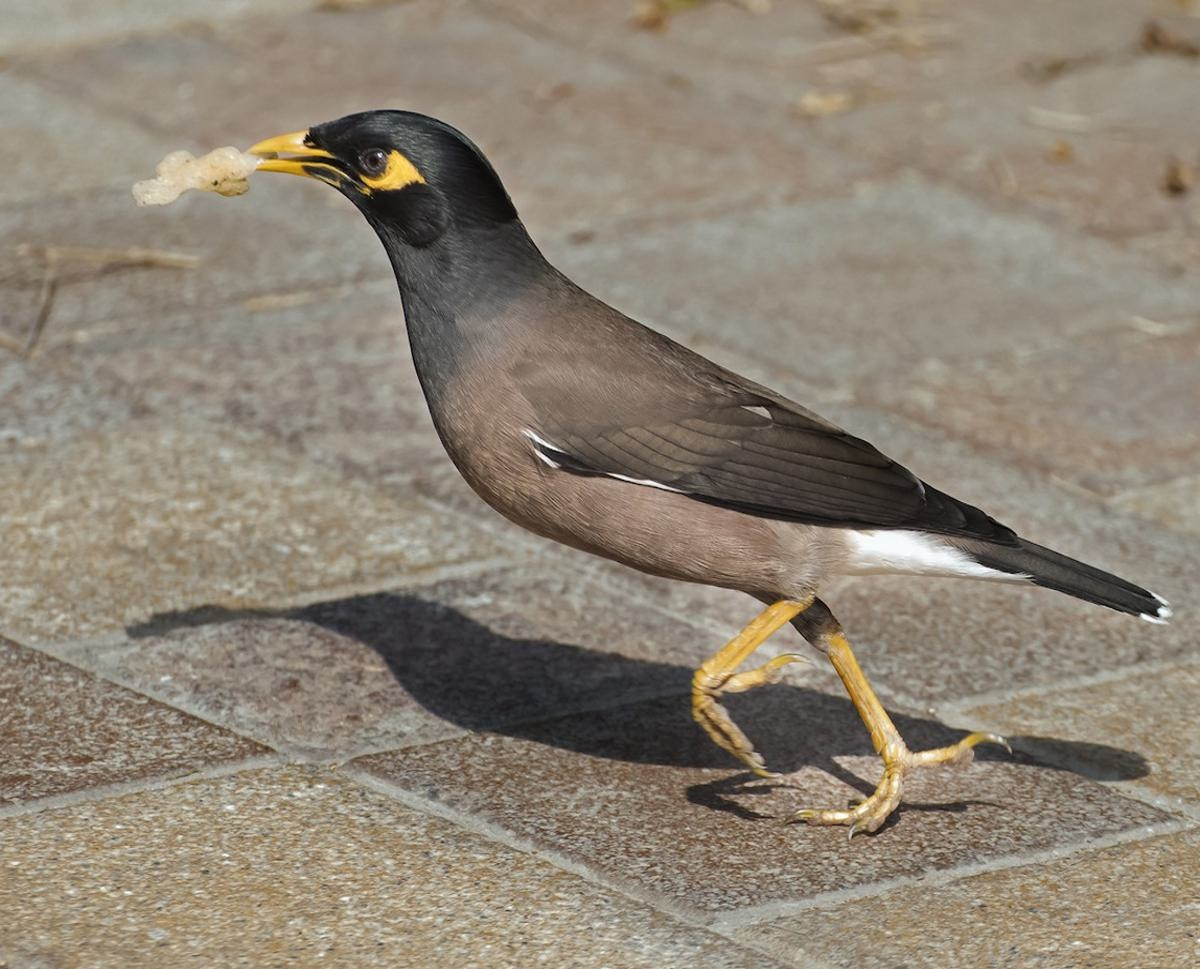myna: (240, 87, 1045, 833)
